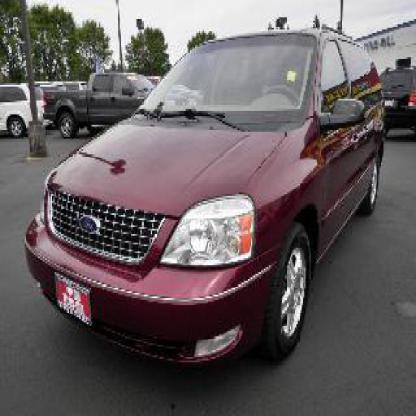Vehicle: (22, 29, 388, 364)
